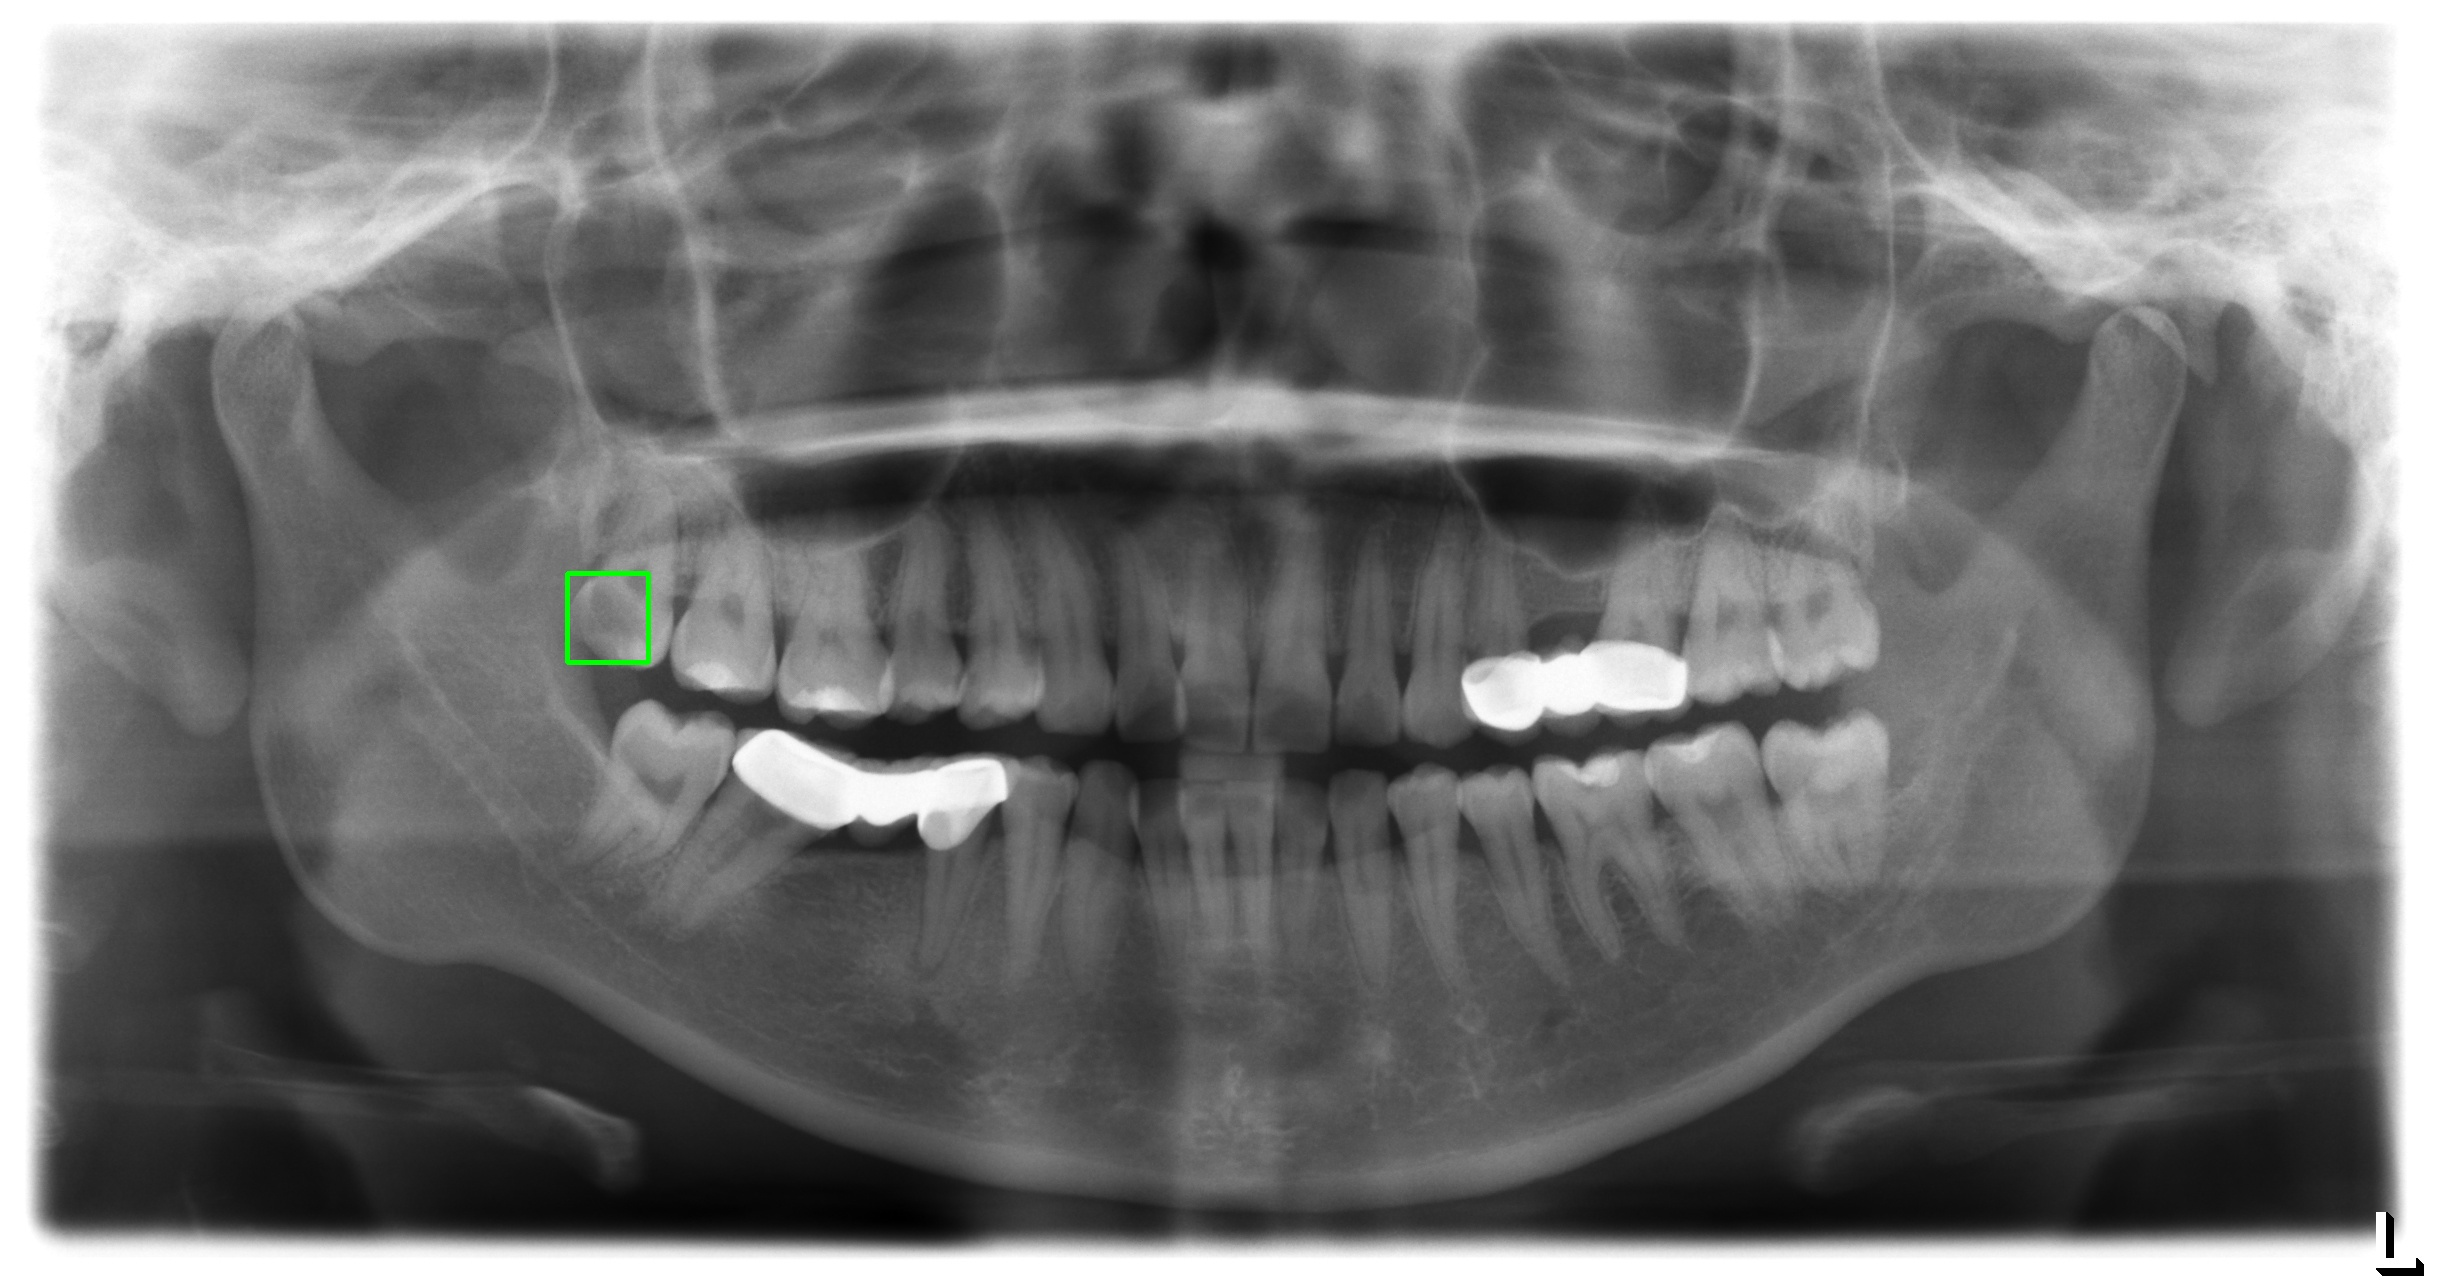Decay: (566, 573, 649, 662)
